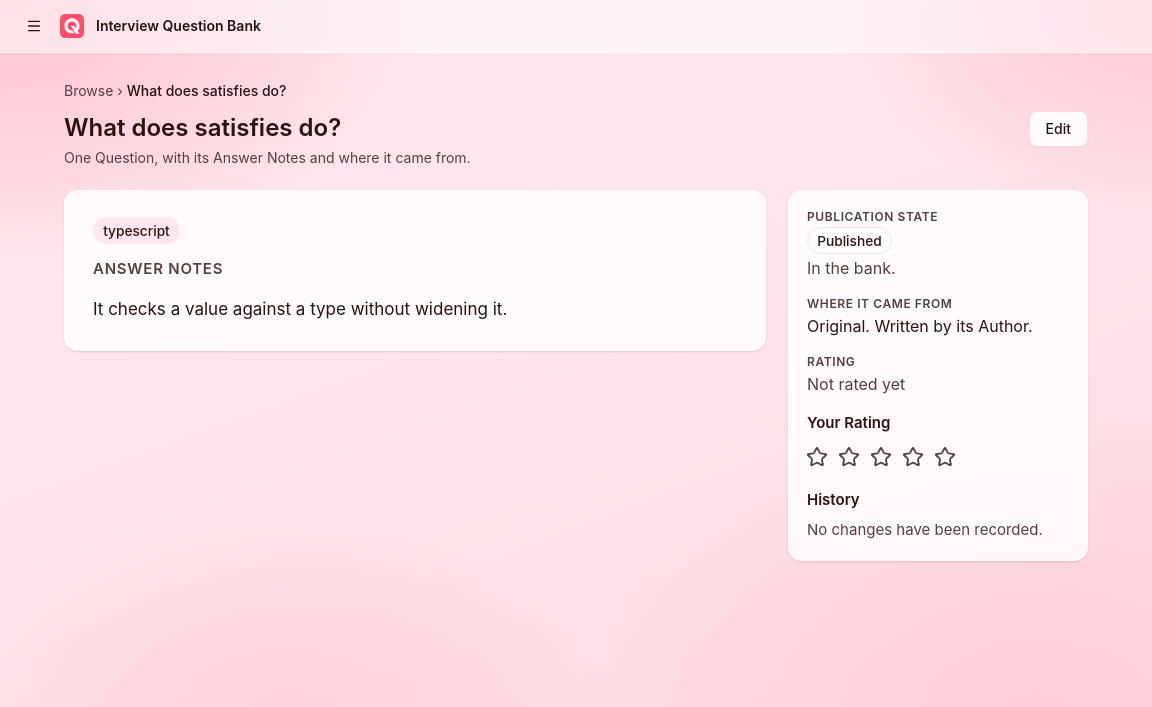
Test: editing a Question › sends only the text it changed, then shows the Question and the edit
Click the link "Edit" at point(1058, 129), box 1029,111 -> 1088,147
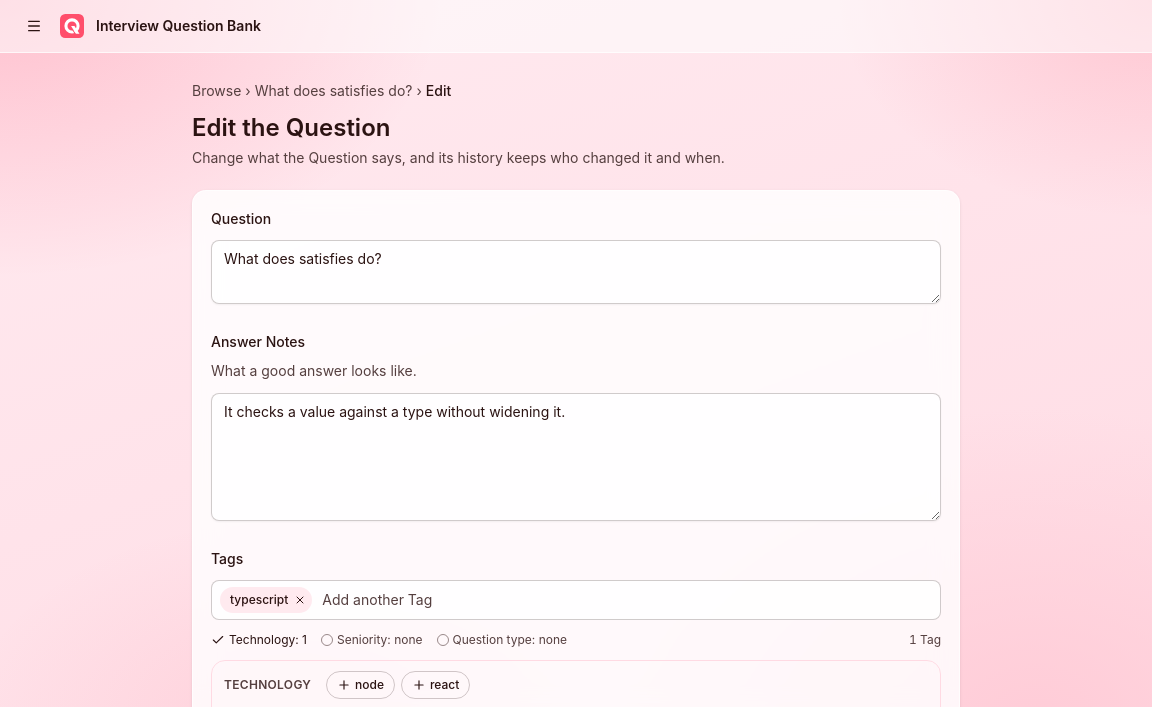
Expected: the text box labelled "Question" holds "What does satisfies do?"
Replace the text in the text box labelled "Question" with "What does `satisfies` check?" at point(576, 272), box 211,240 -> 941,304
(page scrolled)
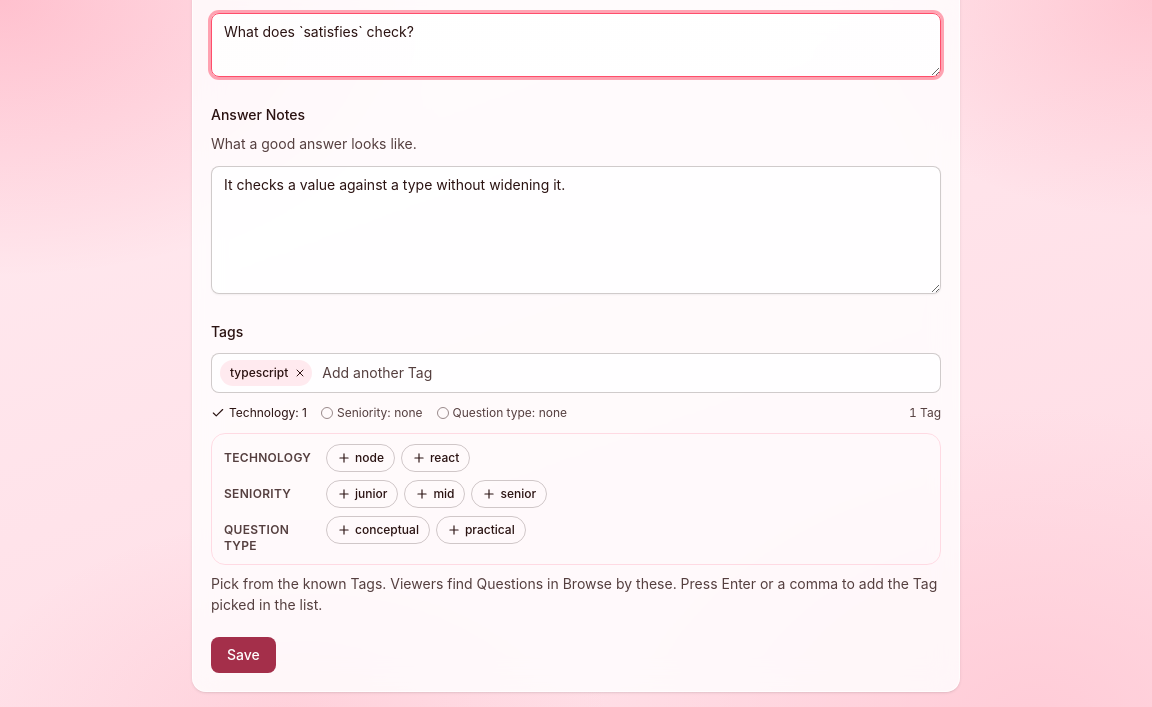
Click the button "Save" at point(243, 655), box 211,637 -> 276,673
(page scrolled)
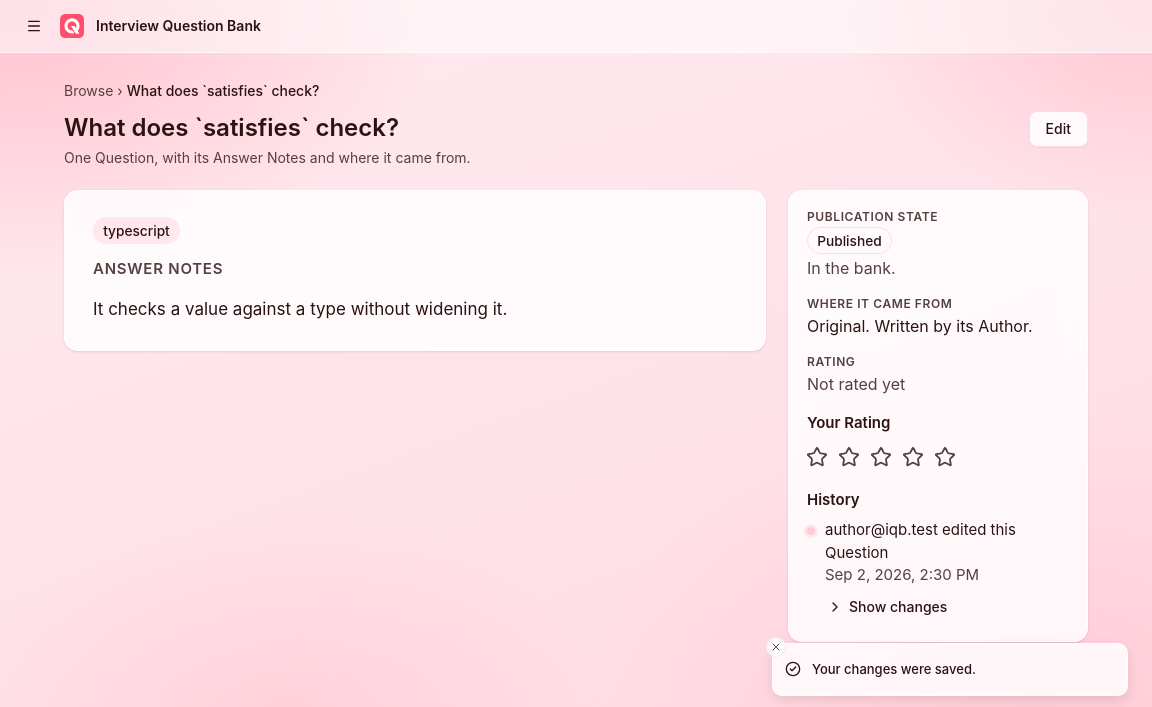
Expected: the heading "What does `satisfies` check?" is shown, 64,113 -> 399,142
Expected: the text "Your changes were saved." is shown once, 812,660 -> 976,679
Expected: the list item that starts with "author@iqb.test" shows "author@iqb.test edited this Question", 807,520 -> 1016,623
